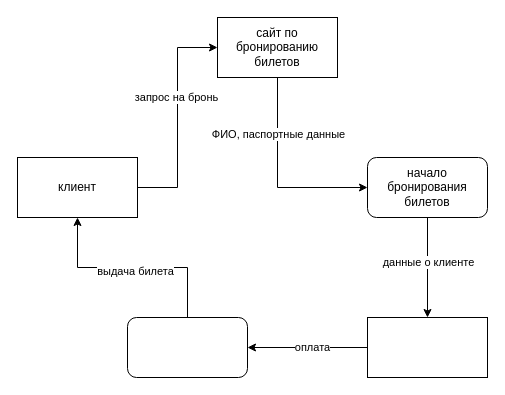
This 505x395 diagram has some shape labels left out. The centre of each missing label's shape, as x and y in pixels:
"БД организации по бронированию билетов" belongs at point (427, 347).
"выдача электронного чека" belongs at point (187, 347).
